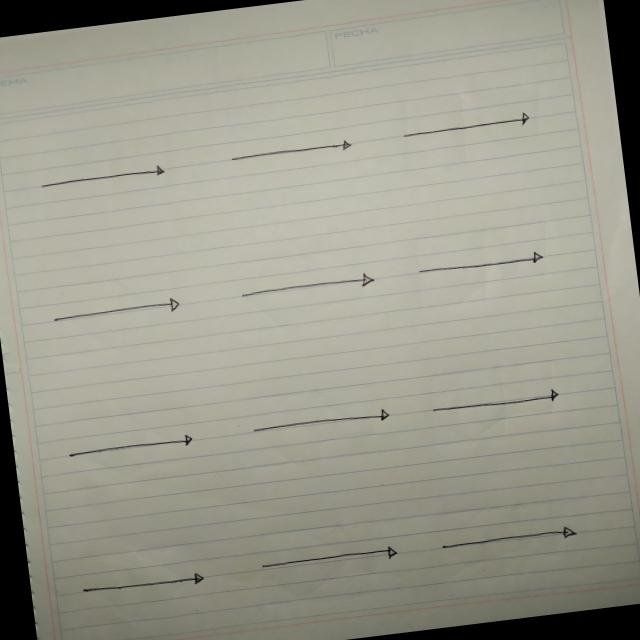arrow_line_right: (216, 260, 402, 314), (36, 286, 190, 334), (239, 398, 396, 444), (390, 105, 545, 151), (250, 537, 408, 582), (426, 513, 591, 556), (24, 155, 174, 200), (418, 379, 566, 424), (406, 243, 560, 284), (62, 421, 198, 467), (74, 562, 216, 606), (222, 132, 369, 172)
